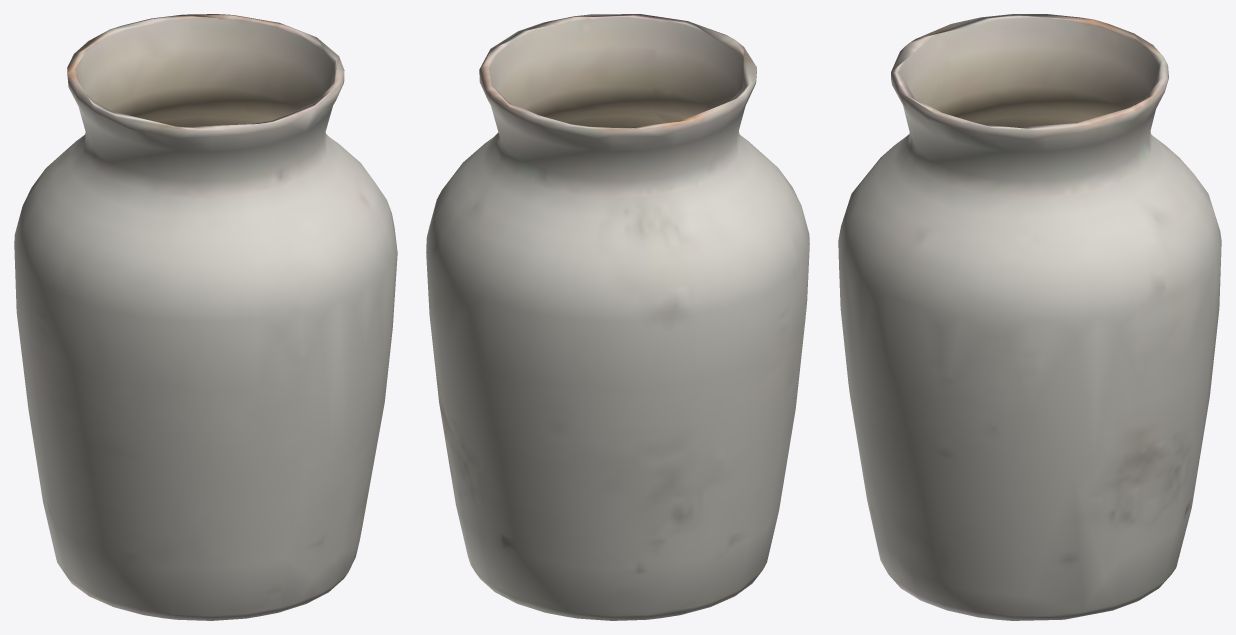
File: ceramic_vase_02.glb
3 views of the same model, side by side, from view 1: azimuth 30°, elevation 25°; view 2: azimuth 150°, elevation 25°; view 3: azimuth 270°, elevation 25° (orthographic).
Parts seen in each view (by area): view 1: ceramic_vase_02; view 2: ceramic_vase_02; view 3: ceramic_vase_02.
Boxes of the visible parts, x1,y1,x2,y2 form: ceramic_vase_02: (14, 14, 397, 620); ceramic_vase_02: (426, 14, 809, 620); ceramic_vase_02: (838, 14, 1221, 620).
Bounding box in the file's own units: 0.2176 × 0.3088 × 0.2176.
1 material, 1 textured.
